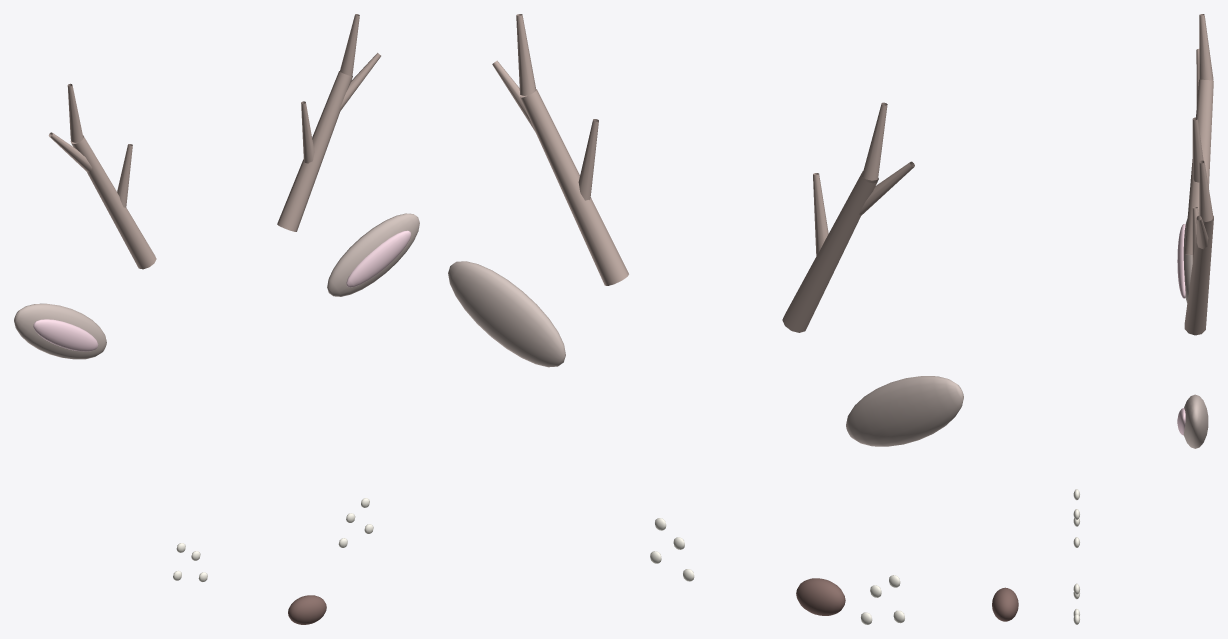
The model's file is deer.glb.
3 views of the same model, side by side, from view 1: azimuth 30°, elevation 25°; view 2: azimuth 150°, elevation 25°; view 3: azimuth 270°, elevation 25° (orthographic). The views are drawn at different scales.
Visible parts, largest first — view 1: antlers, ears, ears_inner, nose, freckles; view 2: antlers, ears, nose, freckles; view 3: antlers, ears, nose, ears_inner, freckles.
Part boxes in pixels (<box>): antlers: <box>48,14,380,269</box>; ears: <box>14,213,419,359</box>; ears_inner: <box>33,230,411,351</box>; nose: <box>288,595,326,624</box>; freckles: <box>173,498,373,581</box>; antlers: <box>492,14,914,332</box>; ears: <box>448,261,963,446</box>; nose: <box>796,578,845,615</box>; freckles: <box>650,518,904,624</box>; antlers: <box>1184,14,1213,335</box>; ears: <box>1183,218,1208,448</box>; nose: <box>992,587,1018,621</box>; ears_inner: <box>1177,224,1185,435</box>; freckles: <box>1073,489,1079,624</box>.
Bounding box in the file's own units: 2.2 × 2.62 × 0.9923.
